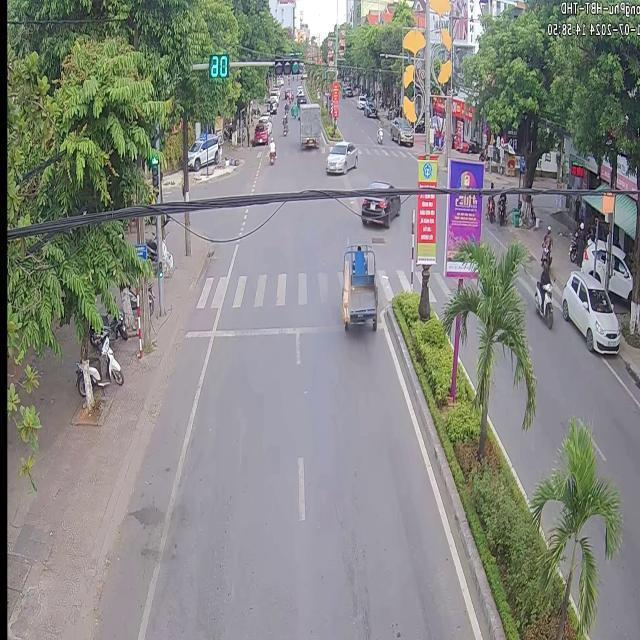car: (560, 269, 618, 351), (340, 238, 376, 328), (359, 194, 399, 227), (324, 140, 356, 171), (297, 102, 319, 147), (368, 180, 389, 187)
green_light: (210, 52, 228, 74), (273, 58, 301, 72)
motobike: (533, 280, 552, 327)
stop_line: (213, 325, 338, 336), (186, 329, 209, 336)
